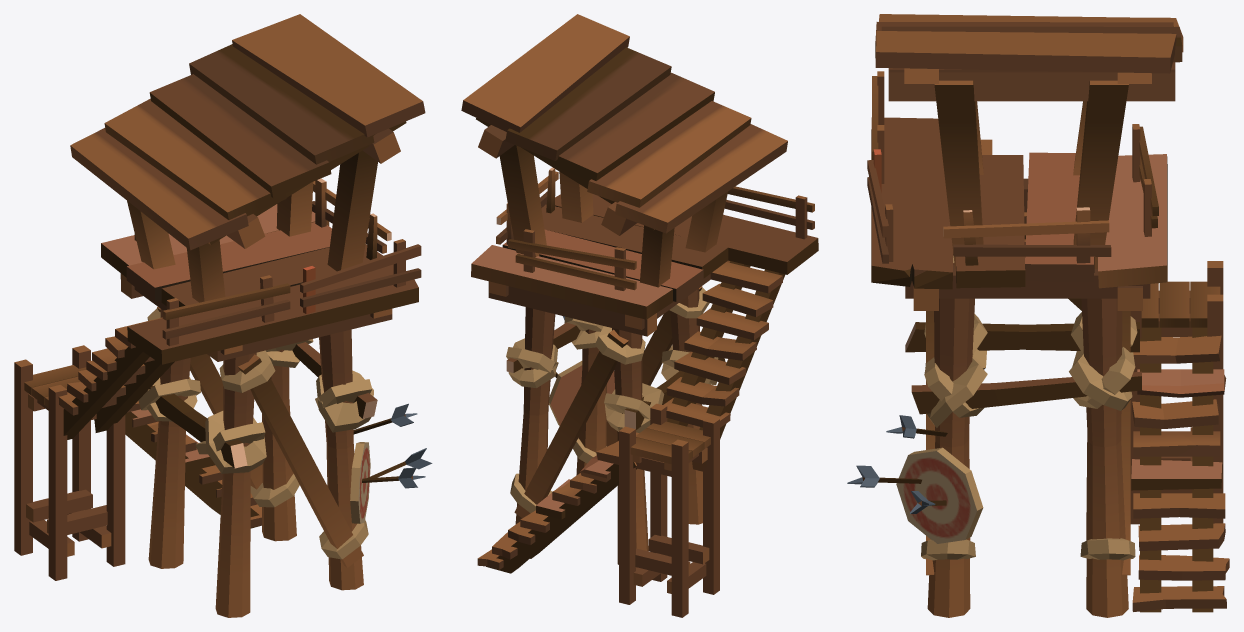
File: watchtower.glb
3 renders of one model, left to right at view 1: azimuth 30°, elevation 25°; view 2: azimuth 150°, elevation 25°; view 3: azimuth 270°, elevation 25°, orthographic. The views are drawn at different scales.
Visible parts, largest first — view 1: Cube.007_low; view 2: Cube.007_low; view 3: Cube.007_low.
Part boxes in pixels (x1=…): Cube.007_low: x1=14, y1=14, x2=432, y2=617; Cube.007_low: x1=461, y1=14, x2=818, y2=617; Cube.007_low: x1=847, y1=14, x2=1229, y2=617.
Bounding box in the file's own units: 5.41 × 8.83 × 5.23.
1 material, 1 textured.
